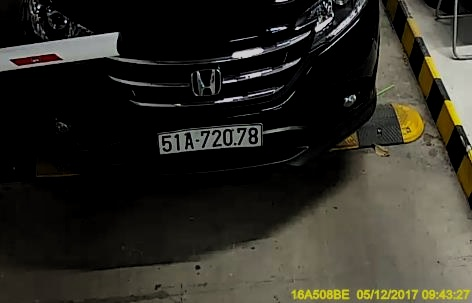plate: (156, 123, 265, 156)
